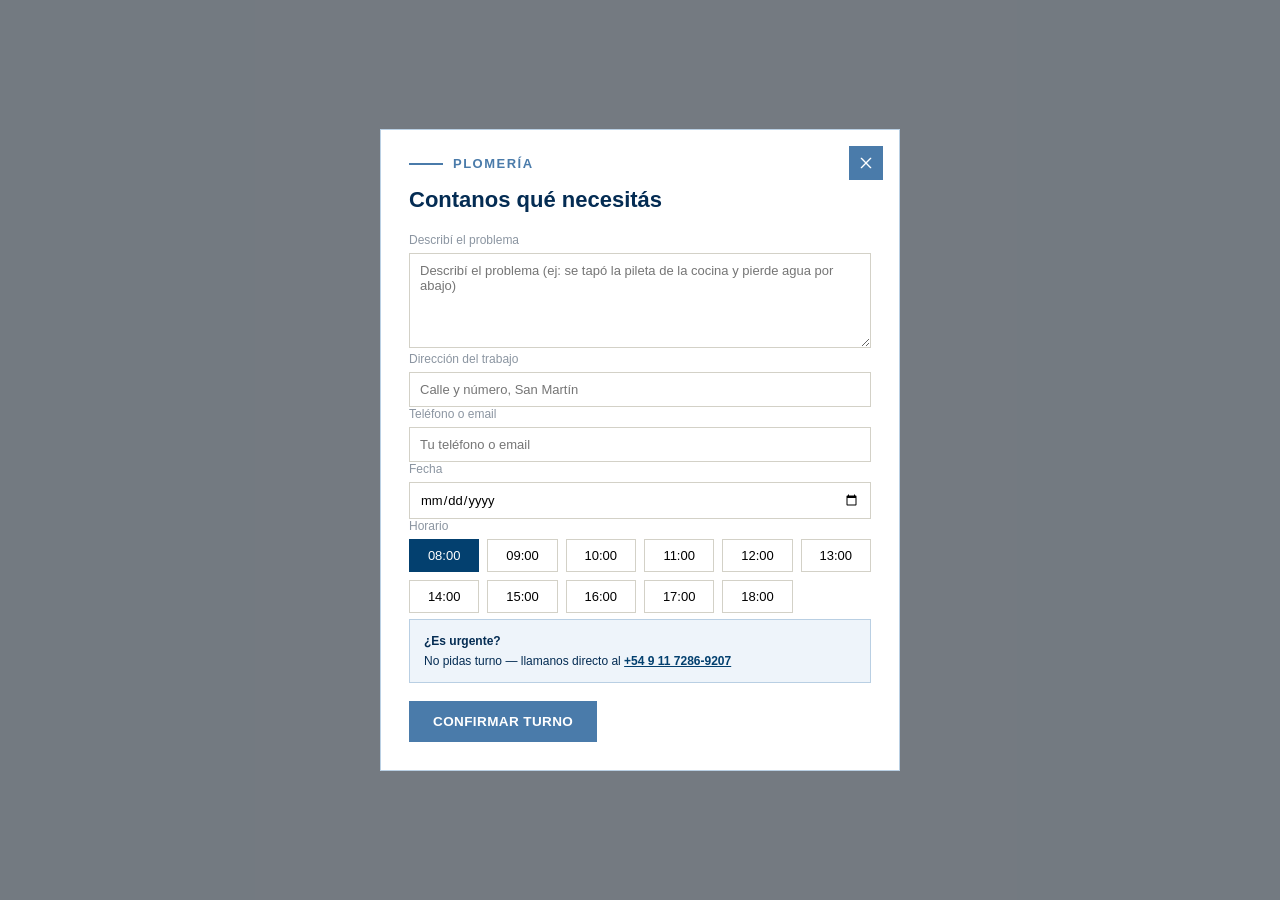
Scenario: BookingModal › deshabilita y marca como ocupados los horarios ya tomados para la fecha elegida
Type "2026-08-10" into the date field labelled "Fecha" at (640, 500), box [409, 482, 871, 519]
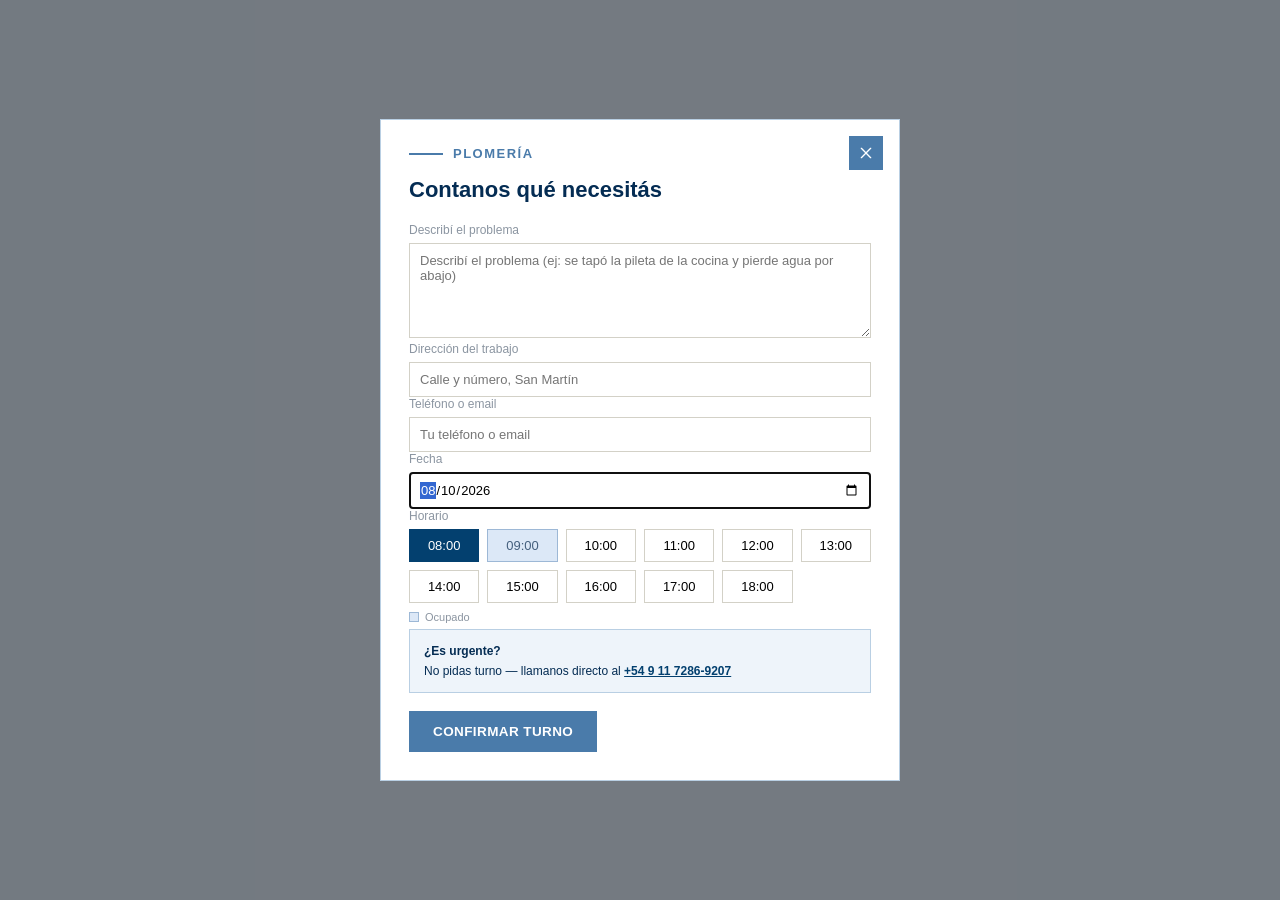
Expected: the button named "10:00 hs" is enabled, [566, 529, 636, 562]
Now the button named "09:00 hs, ocupado" is disabled, box [487, 529, 558, 562]
